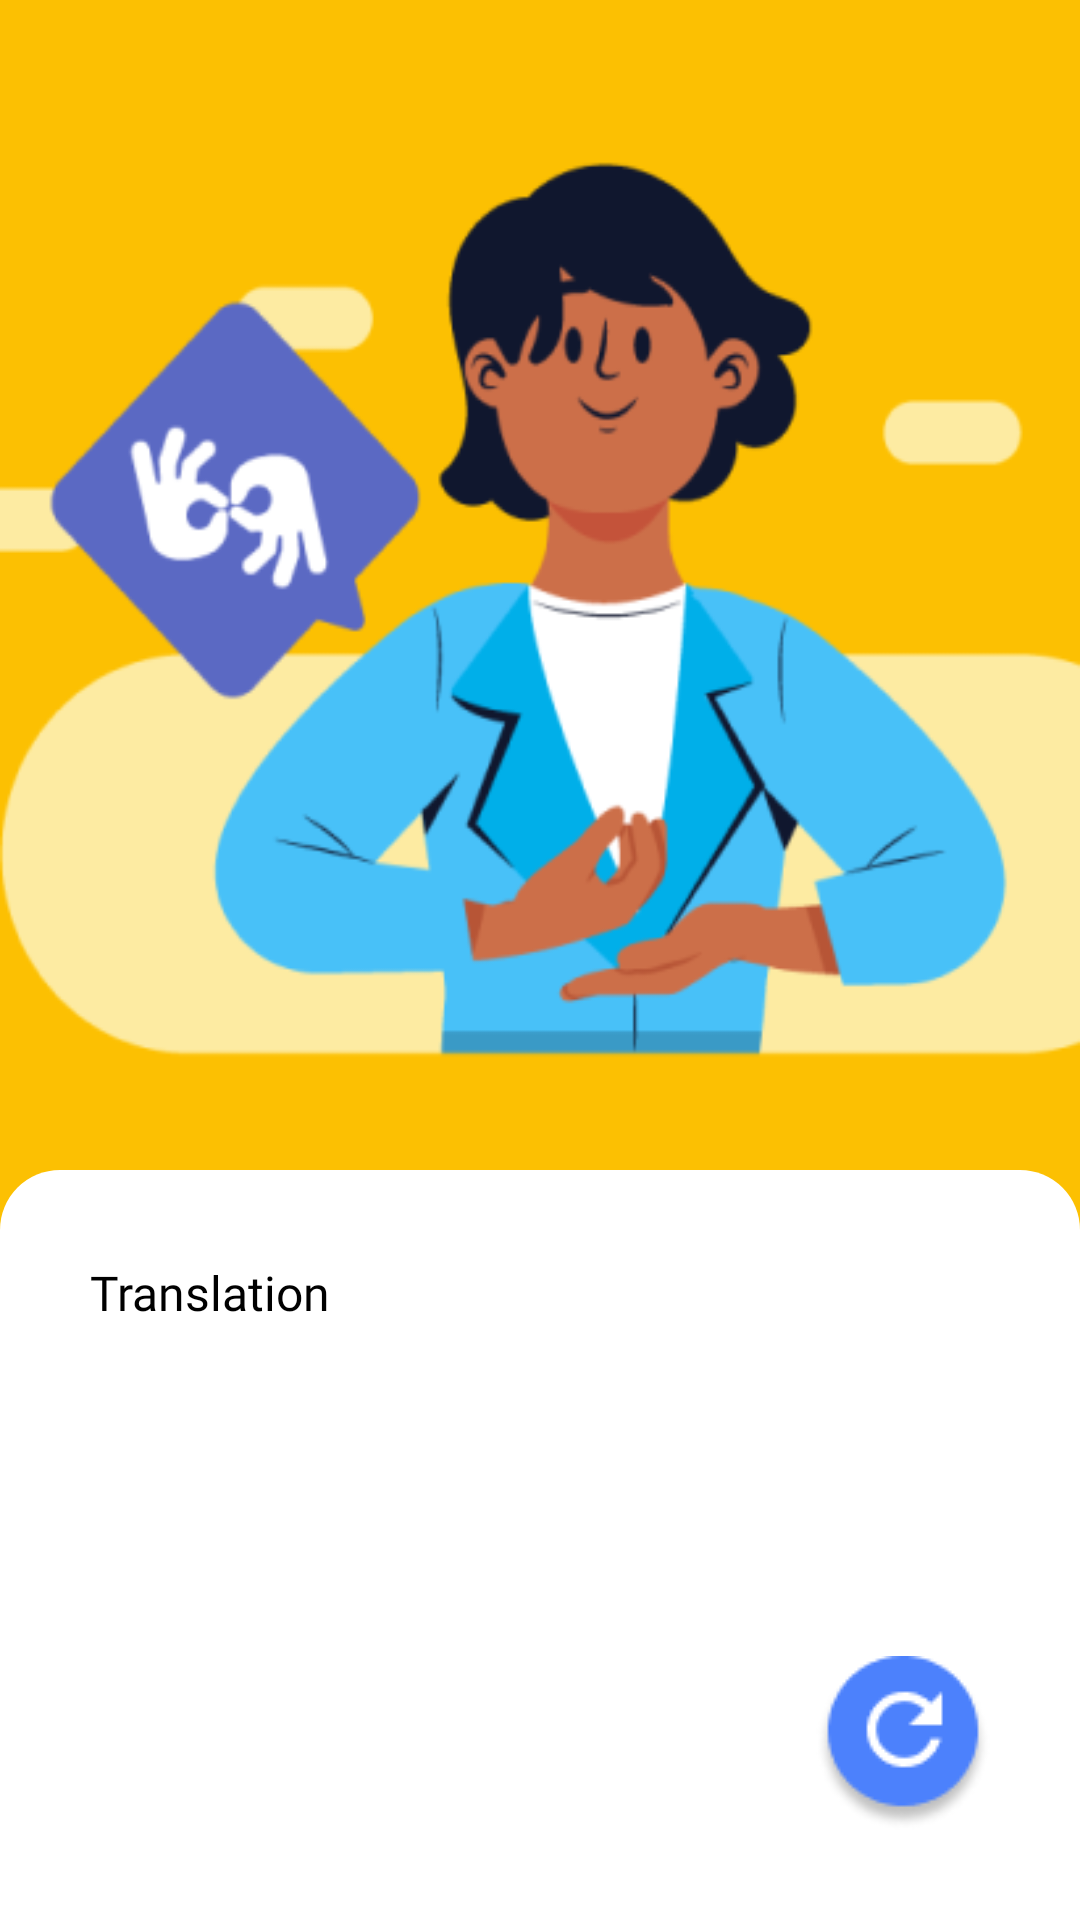

Icon bounding boxes for this 1080px×1920px phone screenshot, format (x1, y1, x2, y2):
refresh: (826, 1656, 980, 1820)
